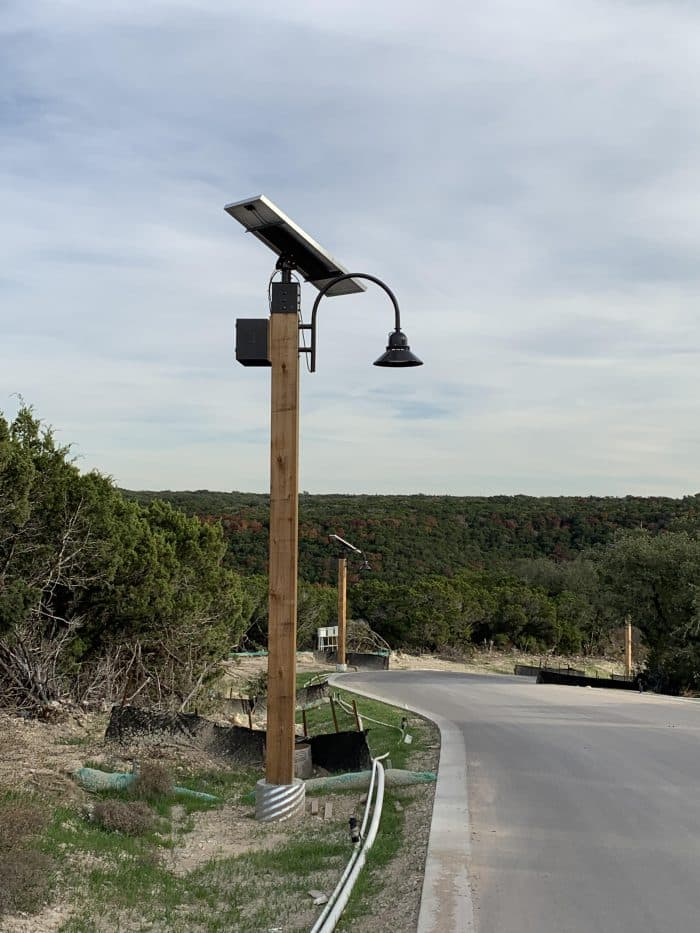light_pole: (244, 266, 316, 820)
